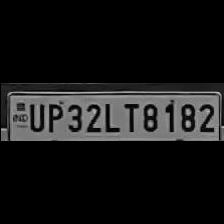1: (160, 99, 176, 133)
2: (196, 100, 216, 134), (82, 99, 100, 133)
3: (62, 99, 82, 133)
8: (138, 100, 160, 132), (176, 100, 196, 134)
L: (101, 99, 119, 133)
P: (44, 99, 62, 133)
T: (119, 99, 138, 133)
U: (25, 100, 42, 132)
